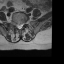CCS_normal: (18, 22, 20, 30)
LFS_normal: (23, 20, 25, 26)
LLS_normal: (20, 22, 22, 29)
RFS_normal: (14, 20, 16, 28)
RLS_normal: (16, 22, 18, 29)
